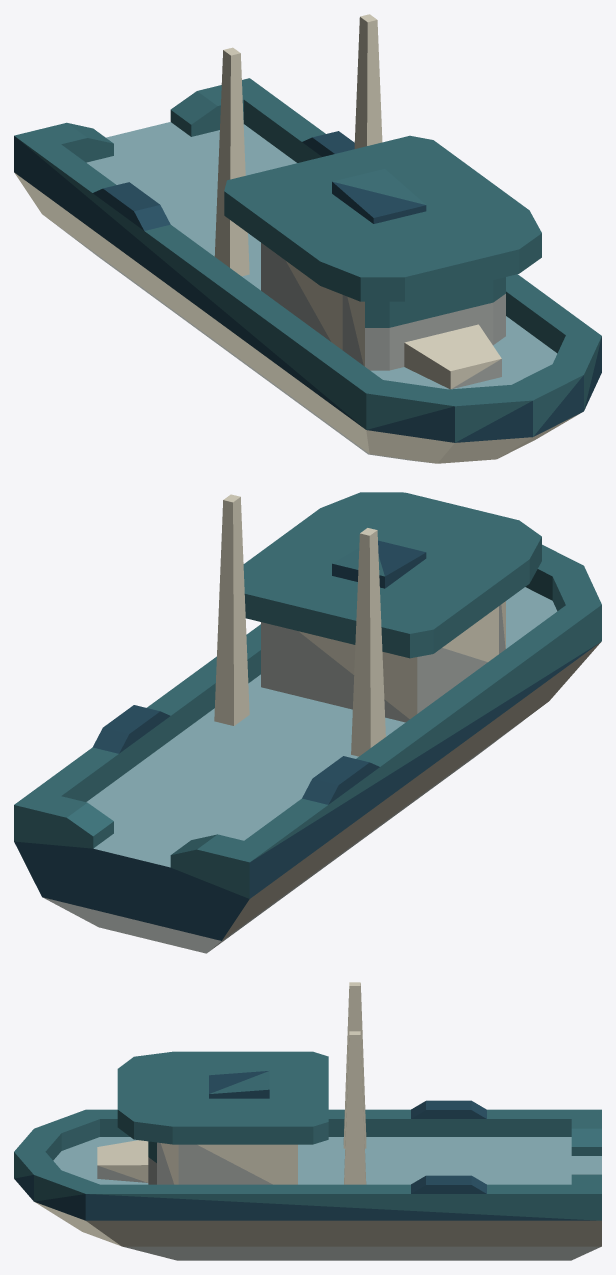
The model's file is PesqueroKenney.fbx.
3 views of the same model, one above another, from view 1: azimuth 30°, elevation 25°; view 2: azimuth 150°, elevation 25°; view 3: azimuth 270°, elevation 25° (orthographic). The views are drawn at different scales.
Parts seen in each view (by area): view 1: Surf_BoatBlue.001, Surf_HullCream.001, Surf_BoatBlueDark.001, Surf_Glass, Surf_HullShade.001; view 2: Surf_BoatBlue.001, Surf_Glass, Surf_BoatBlueDark.001, Surf_HullCream.001, Surf_HullShade.001; view 3: Surf_BoatBlue.001, Surf_HullCream.001, Surf_Glass, Surf_BoatBlueDark.001, Surf_HullShade.001.
Part boxes in pixels (bbox=[...]): Surf_BoatBlue.001: bbox=[14, 78, 601, 442]; Surf_HullCream.001: bbox=[15, 14, 580, 463]; Surf_BoatBlueDark.001: bbox=[14, 131, 601, 442]; Surf_Glass: bbox=[86, 122, 557, 389]; Surf_HullShade.001: bbox=[49, 219, 505, 463]; Surf_BoatBlue.001: bbox=[14, 492, 601, 898]; Surf_Glass: bbox=[86, 587, 557, 867]; Surf_BoatBlueDark.001: bbox=[14, 540, 598, 940]; Surf_HullCream.001: bbox=[214, 494, 600, 940]; Surf_HullShade.001: bbox=[43, 605, 543, 953]; Surf_BoatBlue.001: bbox=[14, 1051, 601, 1220]; Surf_HullCream.001: bbox=[35, 982, 601, 1246]; Surf_Glass: bbox=[53, 1137, 601, 1184]; Surf_BoatBlueDark.001: bbox=[14, 1071, 595, 1220]; Surf_HullShade.001: bbox=[97, 1142, 600, 1260].
Bounding box in the file's own units: 2.28 × 2.94 × 6.73.
